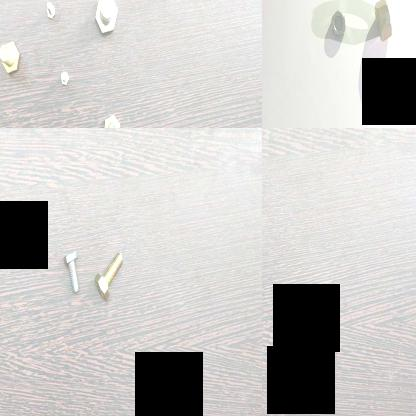Bolts: (90, 244, 128, 304), (59, 244, 80, 302), (89, 0, 118, 40), (0, 33, 22, 85), (97, 107, 123, 128), (42, 0, 58, 23), (56, 68, 68, 86)
NUTS: (368, 0, 397, 49), (321, 0, 347, 53)
